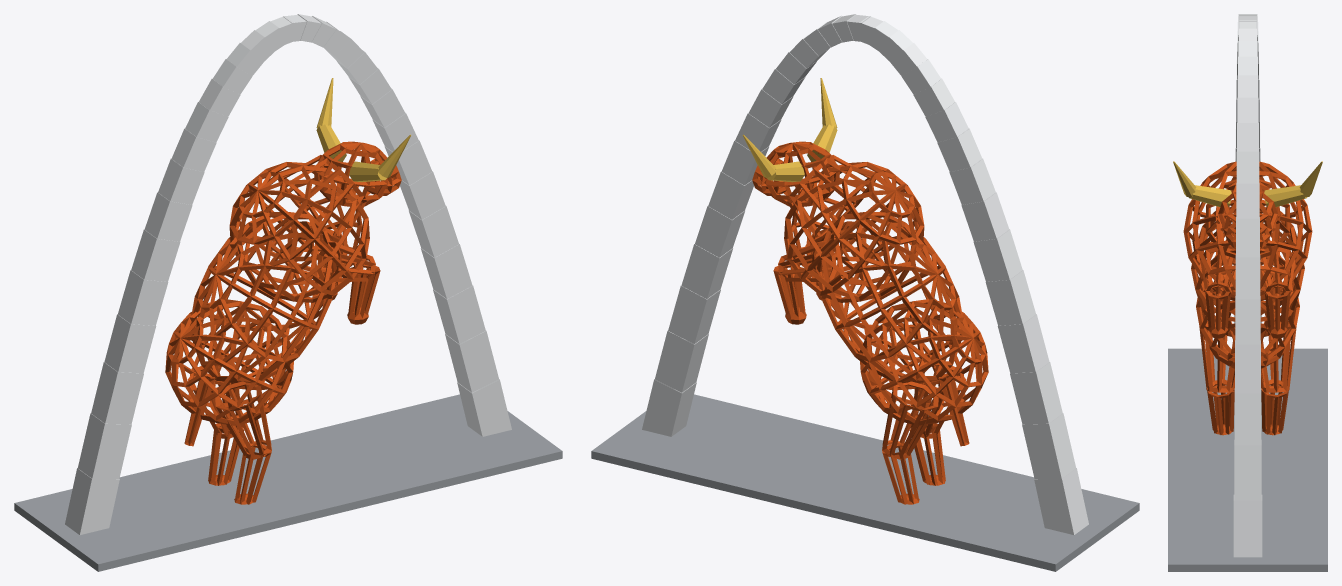
Rendered from red-bull.glb.
3 renders of one model, left to right at view 1: azimuth 30°, elevation 25°; view 2: azimuth 150°, elevation 25°; view 3: azimuth 270°, elevation 25°, orthographic. The views are drawn at different scales.
Parts seen in each view (by area): view 1: red-bull; view 2: red-bull; view 3: red-bull.
Boxes of the visible parts, x1=… form: red-bull: x1=14, y1=14, x2=562, y2=571; red-bull: x1=591, y1=14, x2=1139, y2=571; red-bull: x1=1168, y1=14, x2=1327, y2=571.
Size of the model in its own units: 32 by 31 by 10.
